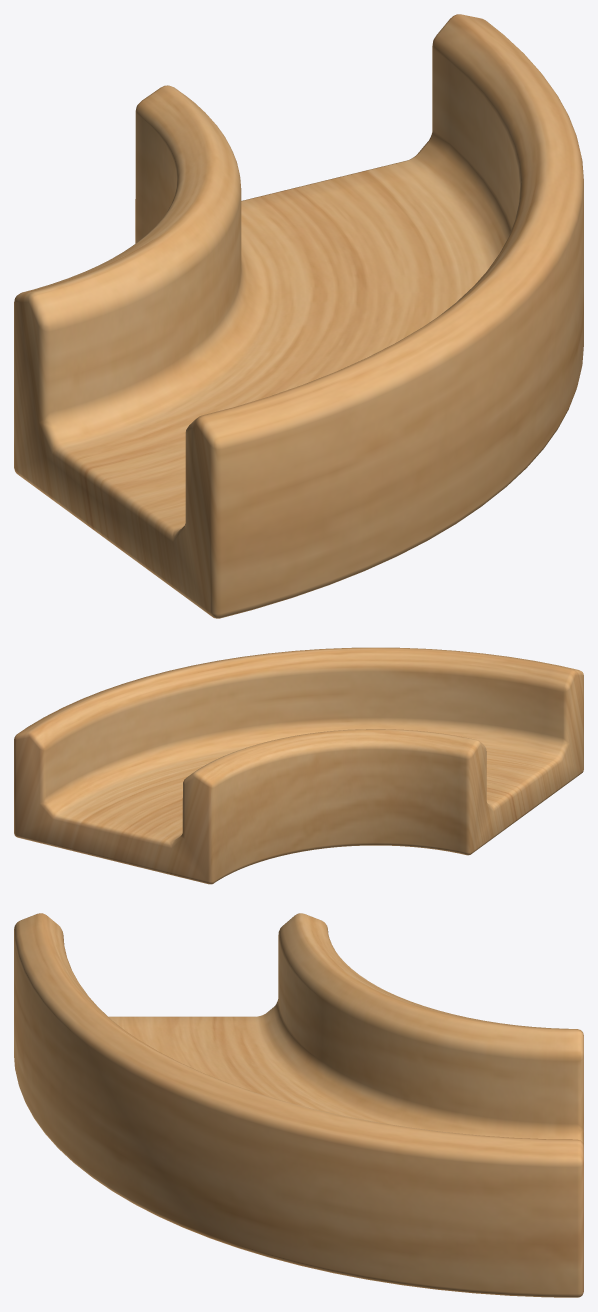
The model's file is channel_curve.glb.
The picture shows the model from 3 angles, top to bottom: view 1: azimuth 30°, elevation 25°; view 2: azimuth 150°, elevation 25°; view 3: azimuth 270°, elevation 25°; orthographic projection. The views are drawn at different scales.
Visible parts, largest first — view 1: channel_curve; view 2: channel_curve; view 3: channel_curve.
Part boxes in pixels (left/top/right/bottom): channel_curve: left=14, top=14, right=583, bottom=618; channel_curve: left=14, top=647, right=583, bottom=884; channel_curve: left=14, top=913, right=583, bottom=1297.
Size of the model in its own units: 0.6897 by 0.1978 by 0.6897.
1 material, 1 textured.
